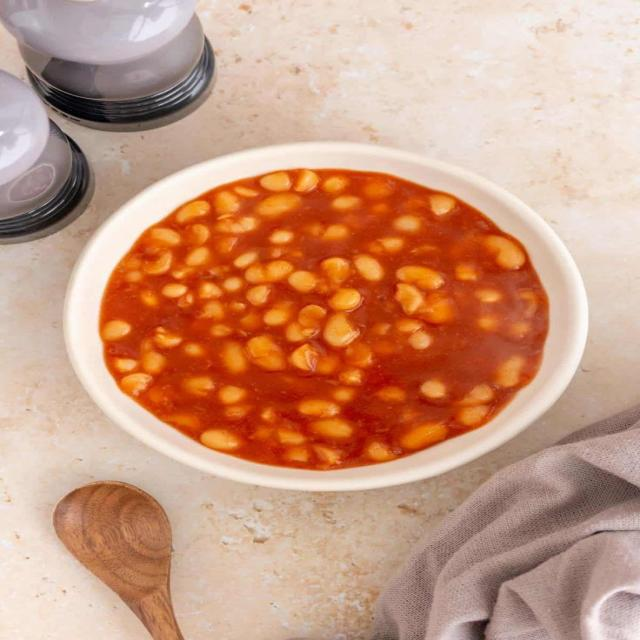beans: (484, 235, 526, 270), (246, 335, 286, 371), (400, 423, 449, 449), (323, 313, 359, 347), (396, 266, 444, 290), (256, 193, 301, 218), (245, 260, 293, 283), (420, 292, 454, 324), (495, 355, 526, 387), (394, 283, 424, 314), (200, 429, 242, 451), (221, 341, 248, 373), (312, 418, 353, 439), (175, 200, 210, 224), (320, 257, 351, 284), (457, 384, 494, 406), (354, 254, 384, 281), (290, 344, 320, 371), (215, 217, 259, 234), (298, 399, 339, 417), (120, 373, 153, 395), (143, 250, 173, 274), (329, 289, 361, 311), (345, 343, 373, 368), (263, 303, 293, 326), (456, 406, 490, 426), (286, 322, 319, 342), (287, 271, 317, 293), (364, 441, 395, 462), (299, 305, 326, 329), (182, 376, 214, 396), (313, 445, 341, 467), (265, 260, 293, 282), (154, 327, 183, 348), (260, 172, 292, 191), (214, 191, 239, 215), (294, 169, 319, 193), (102, 320, 131, 340), (149, 228, 181, 246), (519, 290, 539, 318), (141, 352, 166, 374), (429, 194, 455, 215), (167, 413, 199, 430), (198, 300, 225, 320), (218, 385, 246, 404), (246, 285, 271, 306), (363, 181, 393, 198), (407, 330, 432, 350), (420, 380, 446, 399), (277, 428, 306, 445), (322, 176, 349, 194), (187, 224, 210, 245), (316, 354, 339, 375), (223, 405, 253, 421), (321, 224, 349, 241), (339, 367, 364, 386), (185, 247, 210, 266), (332, 195, 361, 211), (394, 215, 421, 232), (376, 386, 406, 401), (283, 446, 309, 463), (395, 318, 423, 333), (508, 321, 531, 339), (215, 236, 238, 254), (234, 251, 258, 268), (377, 237, 404, 252), (199, 282, 222, 299), (161, 283, 187, 298), (371, 340, 397, 355), (475, 289, 502, 303), (245, 264, 266, 282), (331, 387, 356, 402), (455, 264, 477, 281), (303, 221, 326, 237), (119, 254, 143, 269), (477, 315, 499, 331), (222, 277, 245, 292), (269, 230, 293, 244), (251, 426, 273, 441), (113, 359, 138, 372), (182, 343, 205, 357), (234, 185, 259, 197), (210, 324, 233, 337), (171, 266, 193, 279), (260, 407, 279, 422), (178, 292, 194, 308), (370, 323, 391, 335), (140, 337, 154, 353), (228, 301, 246, 313), (371, 203, 390, 214), (267, 247, 286, 258), (125, 271, 144, 282)
